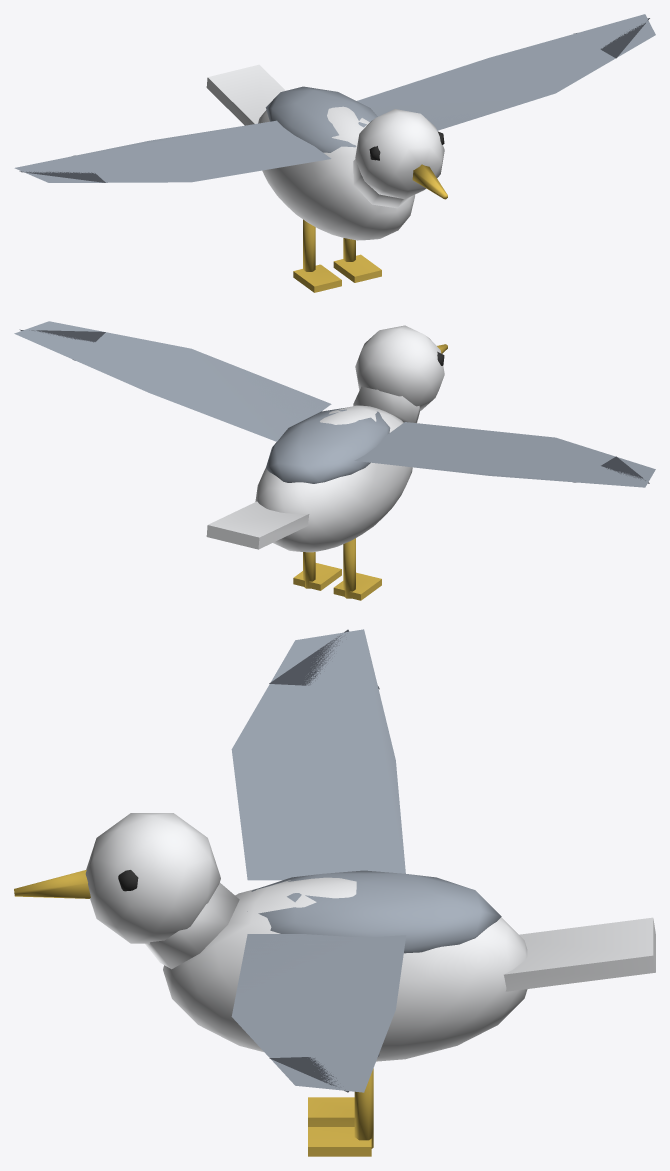
The model's file is gull.4efc1788.glb.
3 renders of one model, top to bottom at view 1: azimuth 30°, elevation 25°; view 2: azimuth 150°, elevation 25°; view 3: azimuth 270°, elevation 25°, orthographic. The views are drawn at different scales.
Visible parts, largest first — view 1: body, leftWing, rightWing, head; view 2: body, leftWing, rightWing, head; view 3: body, rightWing, leftWing, head.
Boxes of the visible parts, <box> form: body: <box>206,64,414,292</box>; leftWing: <box>357,14,655,130</box>; rightWing: <box>14,120,331,182</box>; head: <box>353,109,447,208</box>; body: <box>206,405,412,600</box>; leftWing: <box>14,321,331,441</box>; rightWing: <box>354,422,655,487</box>; head: <box>353,325,447,422</box>; body: <box>163,870,655,1156</box>; rightWing: <box>231,629,405,880</box>; leftWing: <box>231,934,406,1092</box>; head: <box>14,813,239,969</box>.
Size of the model in its own units: 1.03 by 0.33 by 0.606.
